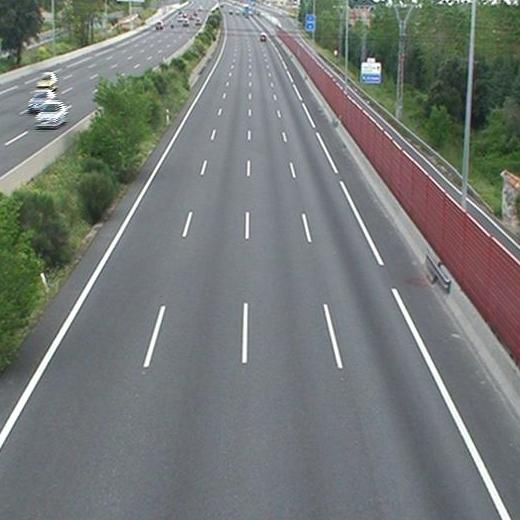car: (259, 33, 266, 41)
